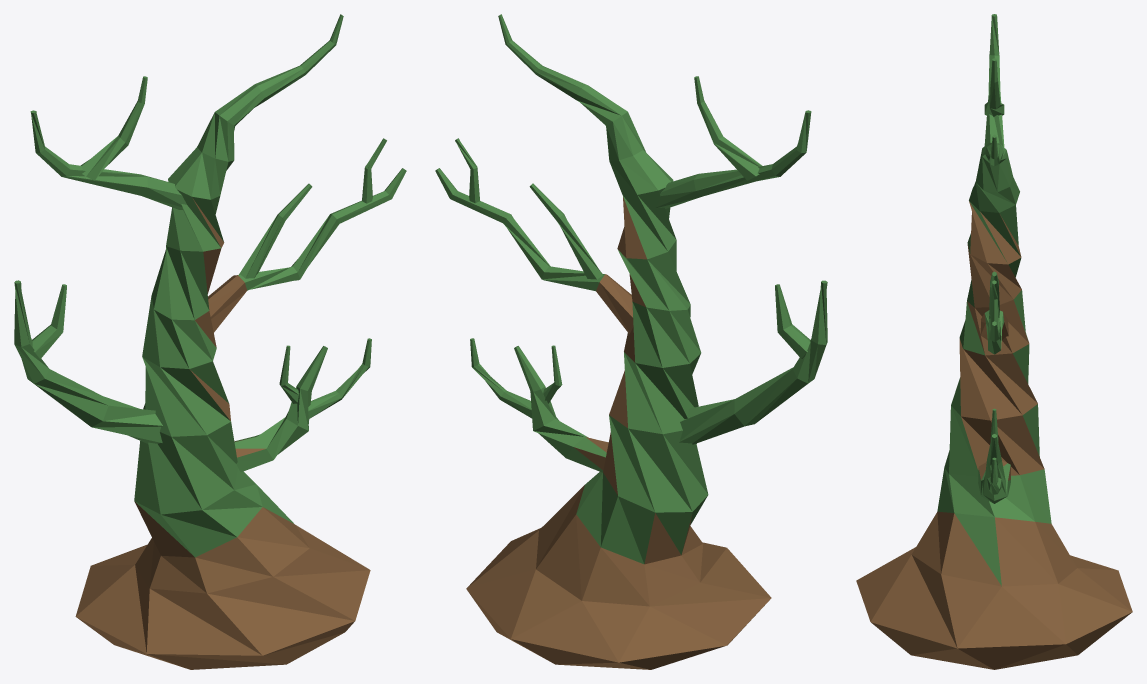
The model's file is tree3d-190.glb.
The picture shows the model from 3 angles, left to right: view 1: azimuth 30°, elevation 25°; view 2: azimuth 150°, elevation 25°; view 3: azimuth 270°, elevation 25°; orthographic projection. The views are drawn at different scales.
Parts seen in each view (by area): view 1: tree3d-190; view 2: tree3d-190; view 3: tree3d-190.
Part boxes in pixels (left/top/right/bottom): tree3d-190: left=14, top=14, right=406, bottom=669; tree3d-190: left=435, top=14, right=827, bottom=669; tree3d-190: left=856, top=14, right=1132, bottom=669.
Size of the model in its own units: 0.7121 by 1 by 0.4651.
